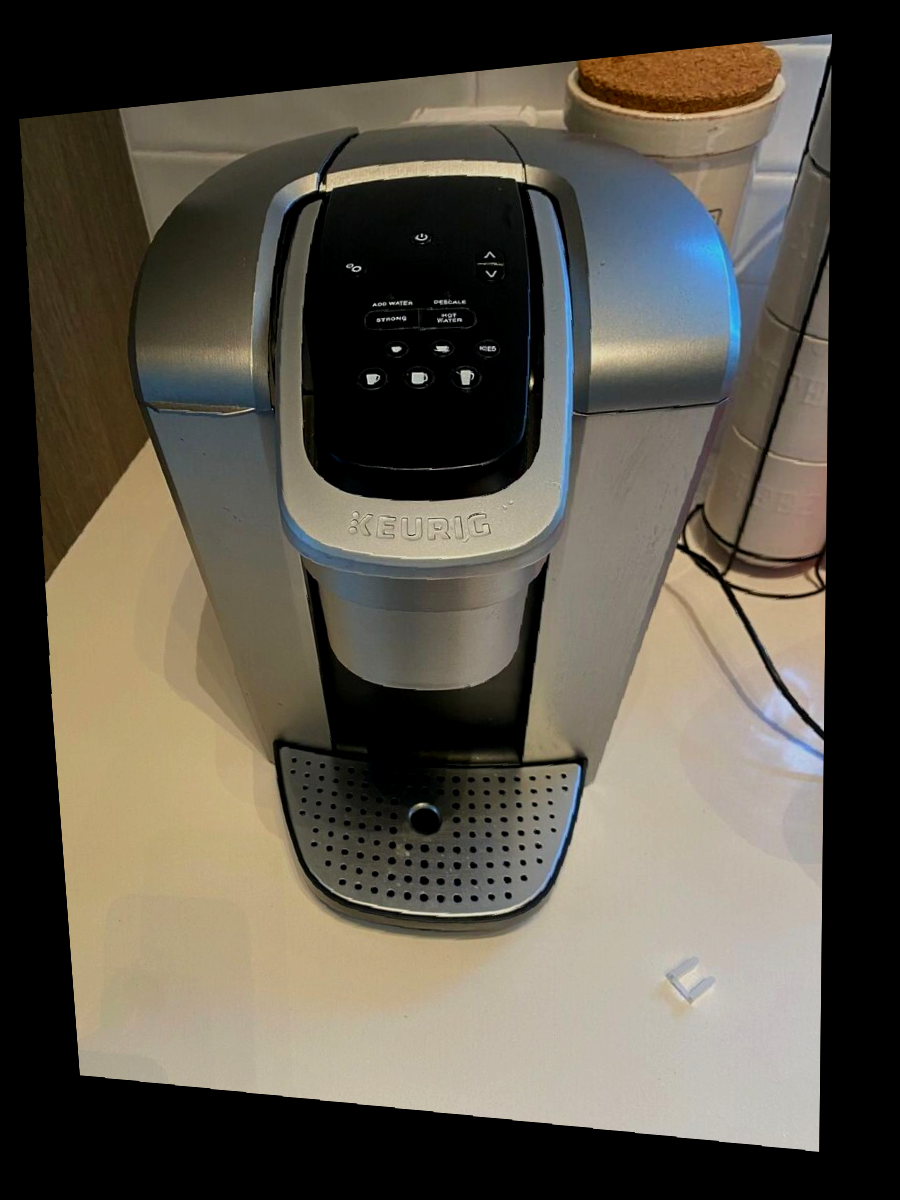10oz: (403, 365, 435, 392)
12oz: (450, 364, 482, 391)
4oz: (385, 338, 411, 359), (410, 229, 435, 248)
6oz: (430, 338, 456, 358)
8oz: (357, 366, 388, 393)
add_water: (363, 289, 419, 311)
coffee_handle: (318, 548, 527, 585)
descale: (420, 286, 476, 308)
hot: (420, 308, 476, 330)
iced: (474, 337, 502, 359)
platform: (404, 799, 446, 840)
strong: (363, 310, 418, 332)
water_handle: (143, 395, 257, 423)
